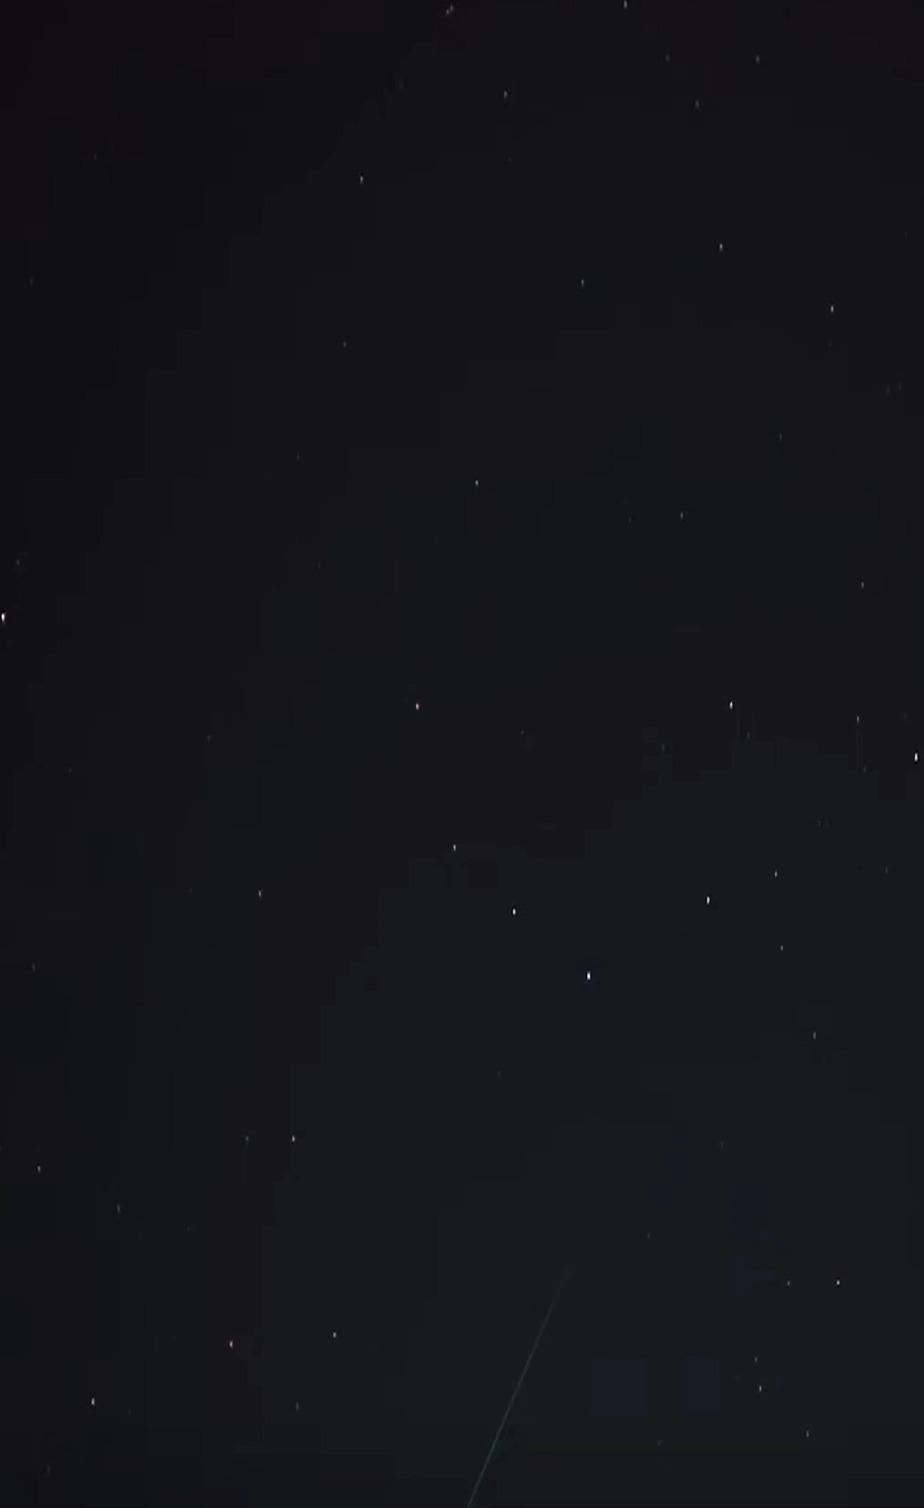meteorite: (430, 1246, 589, 1507)
